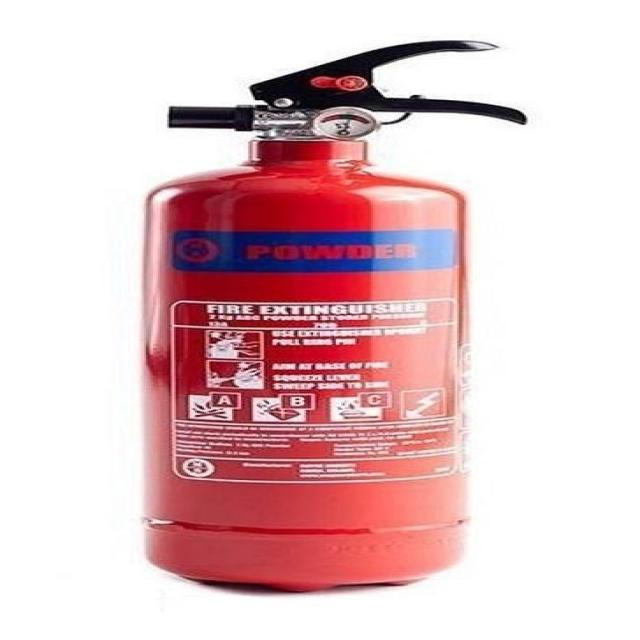fire_extinguisher: (119, 36, 535, 597)
